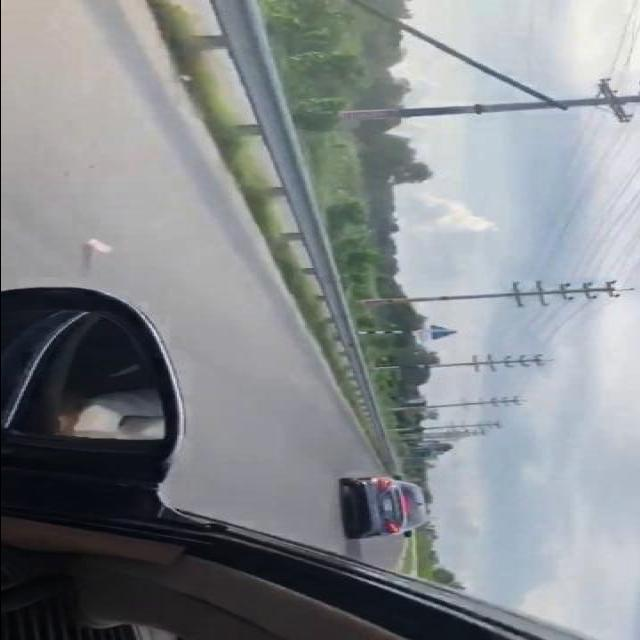car: (343, 476, 430, 539)
